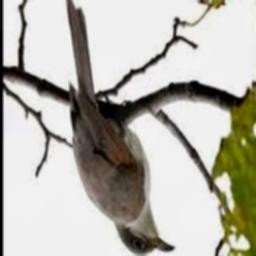Cuckoo: (66, 0, 175, 256)
